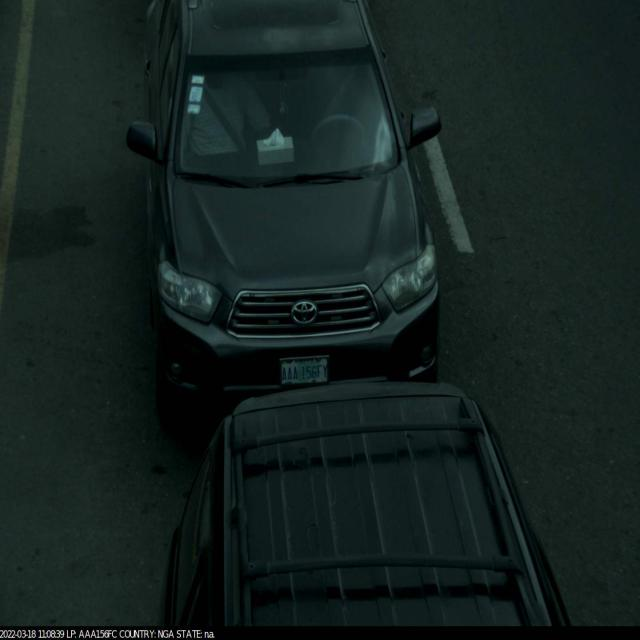windshield: (167, 39, 405, 194)
